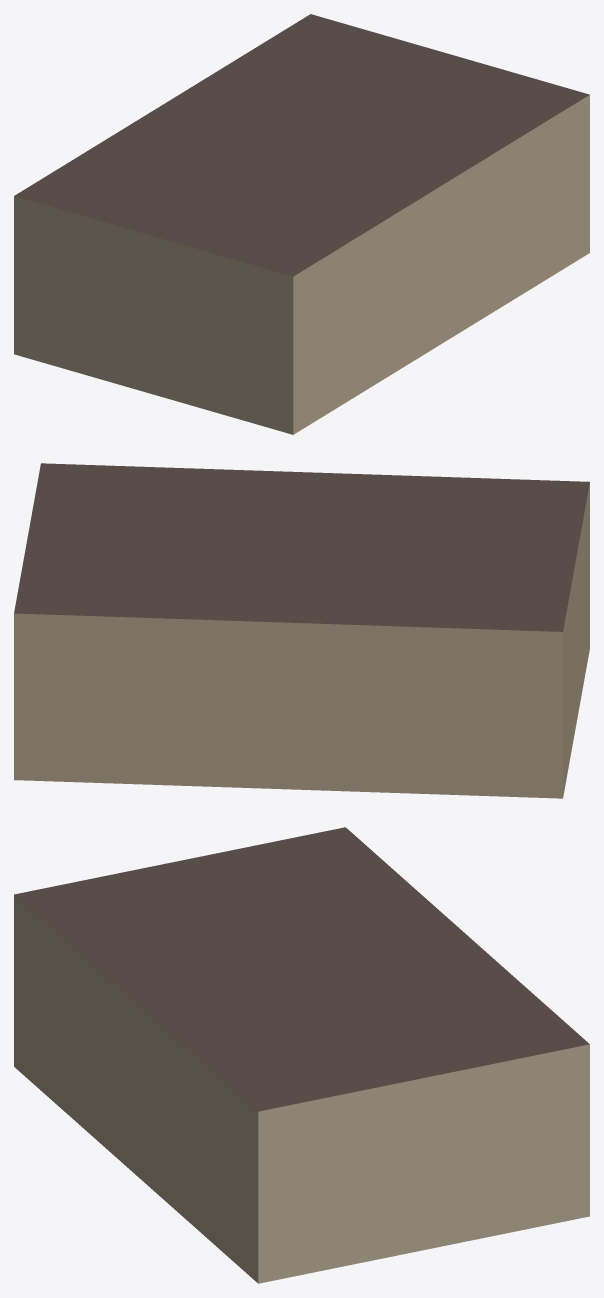
3 views of the same model, one above another, from view 1: azimuth 30°, elevation 25°; view 2: azimuth 150°, elevation 25°; view 3: azimuth 270°, elevation 25° (orthographic). The views are drawn at different scales.
Visible parts, largest first — view 1: HP-w369317504; view 2: HP-w369317504; view 3: HP-w369317504.
Boxes of the visible parts, x1,y1,x2,y2 form: HP-w369317504: [14, 14, 589, 434]; HP-w369317504: [14, 463, 589, 798]; HP-w369317504: [14, 827, 589, 1283].
Size of the model in its own units: 31.88 by 9 by 27.29.
